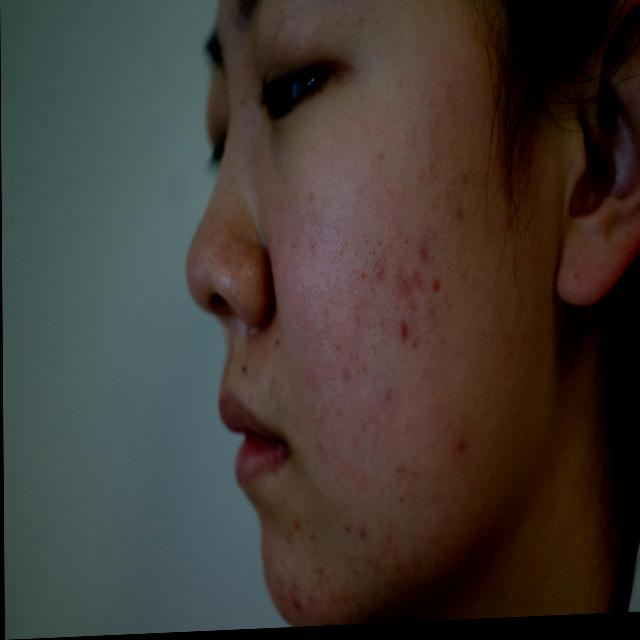blackheads: (279, 572, 311, 629), (448, 433, 476, 466), (394, 317, 415, 360), (372, 253, 394, 294), (425, 275, 449, 309)
